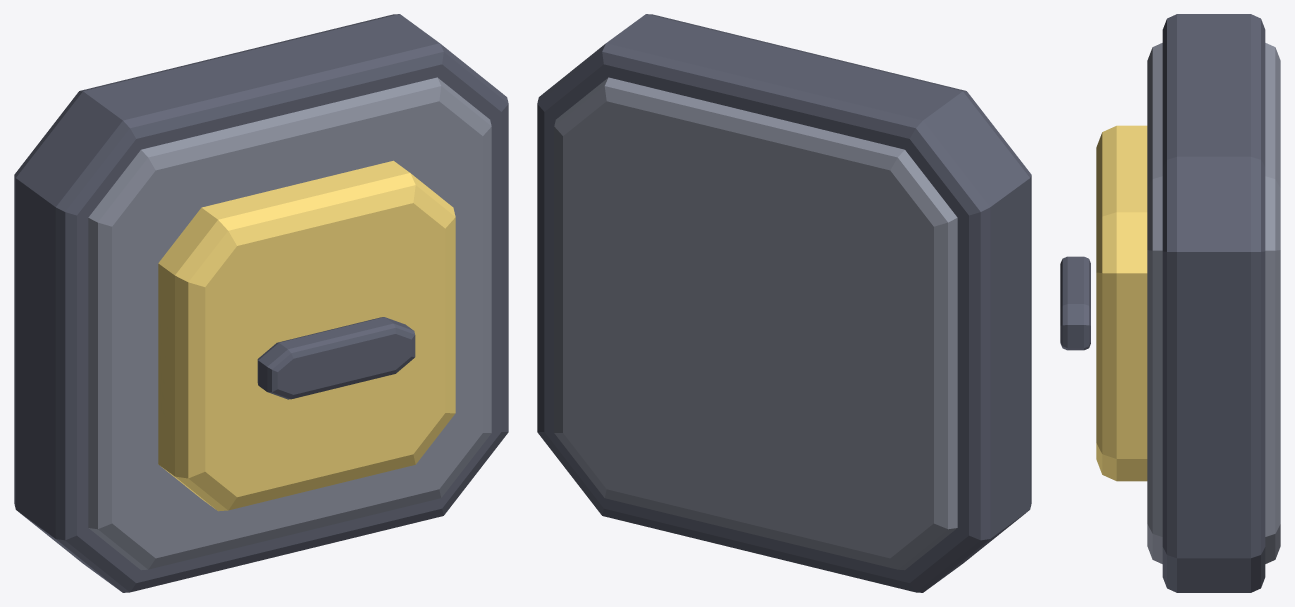
Rendered from game-ui-icon-library-button-square-298e4dc0__19048.glb.
The picture shows the model from 3 angles, left to right: view 1: azimuth 30°, elevation 25°; view 2: azimuth 150°, elevation 25°; view 3: azimuth 270°, elevation 25°; orthographic projection. The views are drawn at different scales.
Visible parts, largest first — view 1: button-square; view 2: button-square; view 3: button-square.
Part boxes in pixels (bbox=[...]): button-square: bbox=[14, 14, 508, 592]; button-square: bbox=[537, 14, 1031, 592]; button-square: bbox=[1060, 14, 1280, 592].
Size of the model in its own units: 0.94 by 0.94 by 0.43.
